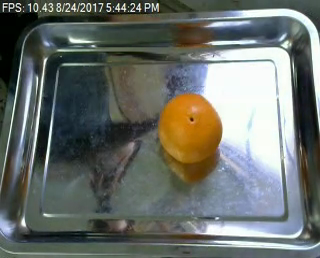Orange: (157, 92, 223, 165)
